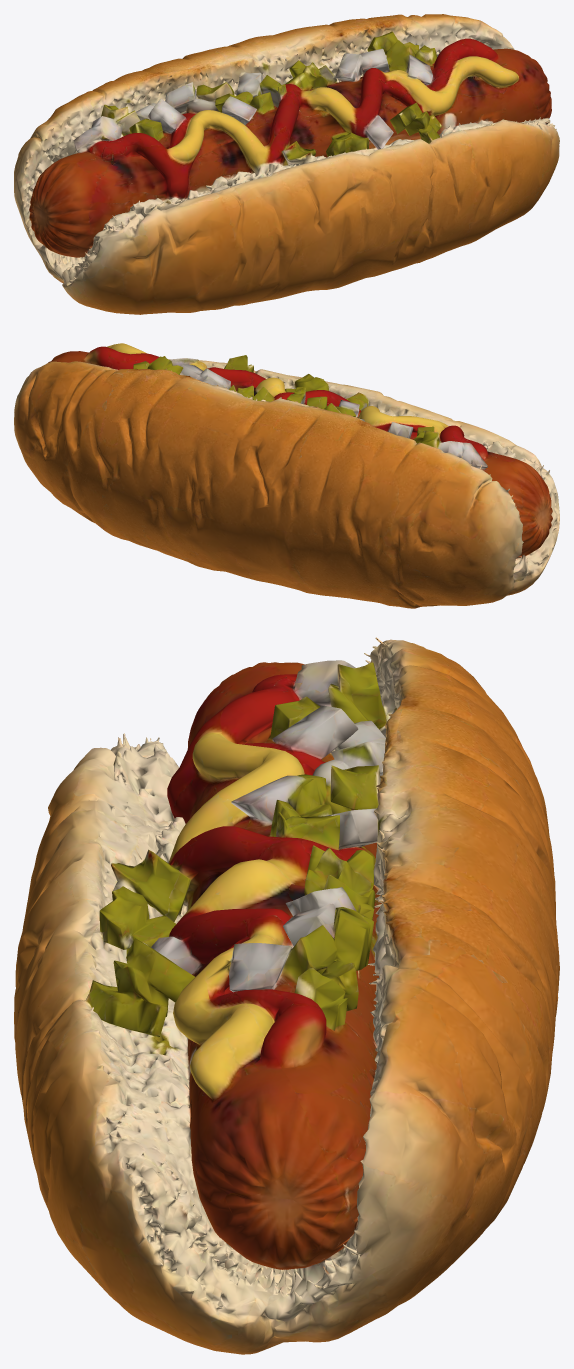
3 views of the same model, one above another, from view 1: azimuth 30°, elevation 25°; view 2: azimuth 150°, elevation 25°; view 3: azimuth 270°, elevation 25° (orthographic). The views are drawn at different scales.
Bounding box in the file's own units: 1.9 × 0.7382 × 0.8931.
1 material, 1 textured.
